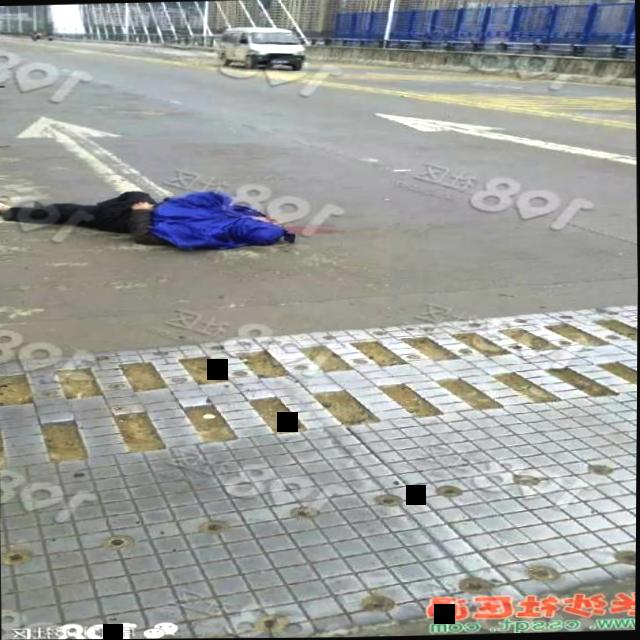Fall-Detected: (0, 168, 324, 260)
